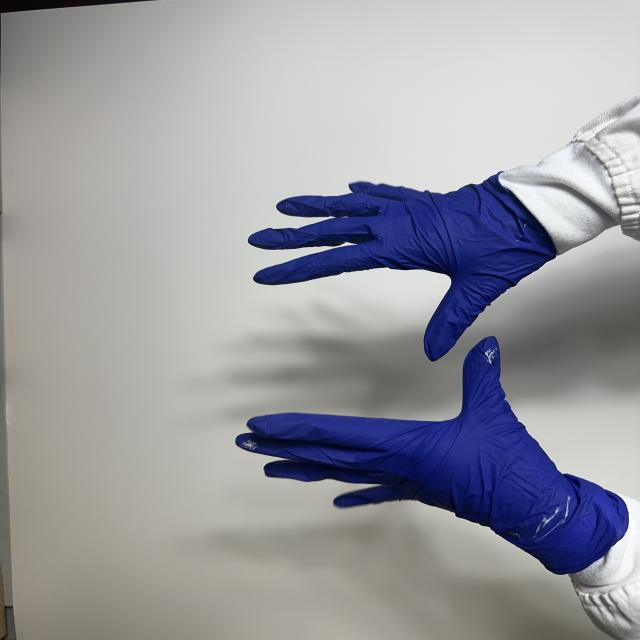gloves_contaminated: (236, 336, 630, 574), (248, 174, 556, 361)
